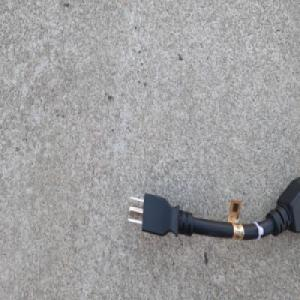Wire: (124, 174, 300, 242)
